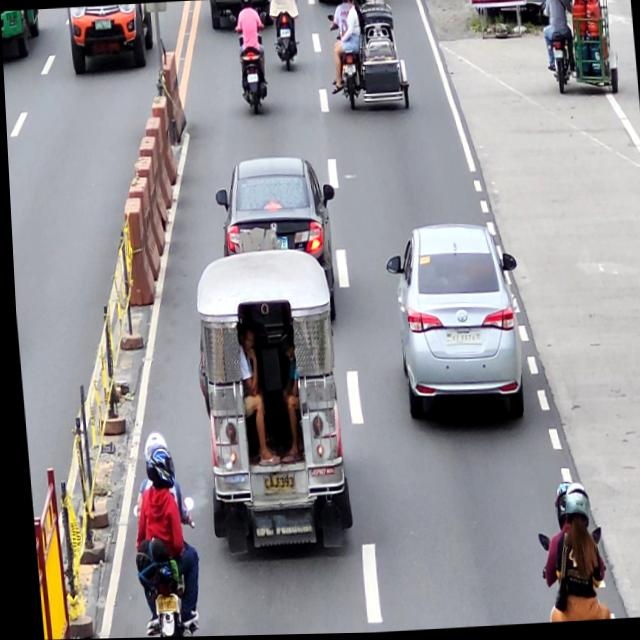Car: (380, 223, 526, 434), (211, 157, 341, 331)
Jeep: (185, 245, 346, 561)
License-Plate: (258, 475, 290, 499), (442, 331, 478, 349), (146, 594, 174, 614), (342, 64, 355, 75), (245, 73, 257, 84), (278, 29, 290, 39), (552, 51, 562, 61)
Motorcycle: (125, 488, 197, 638), (233, 20, 268, 116), (271, 0, 300, 71)
Tricycle: (327, 4, 409, 118), (542, 0, 620, 104)
